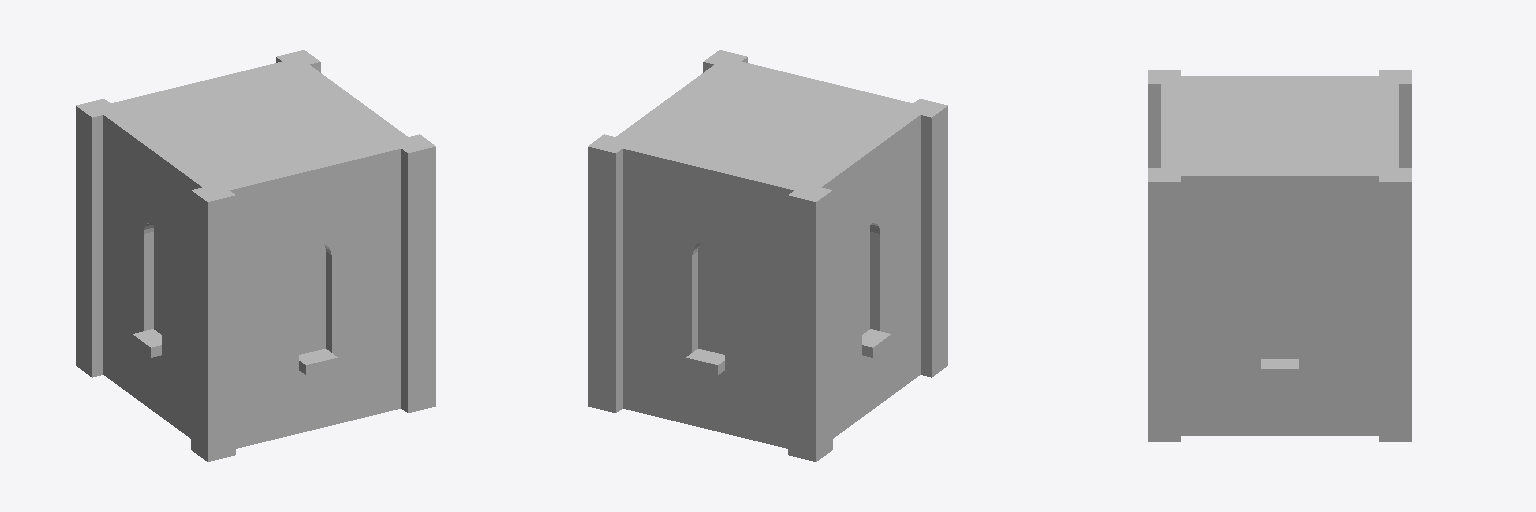
File: towersquarewindow.obj
The picture shows the model from 3 angles: view 1: azimuth 30°, elevation 25°; view 2: azimuth 150°, elevation 25°; view 3: azimuth 270°, elevation 25°; orthographic projection.
Visible parts, largest first — view 1: towerSquareMidWindows; view 2: towerSquareMidWindows; view 3: towerSquareMidWindows.
Part boxes in pixels (bbox=[...]): towerSquareMidWindows: bbox=[76, 50, 435, 461]; towerSquareMidWindows: bbox=[588, 50, 947, 461]; towerSquareMidWindows: bbox=[1148, 70, 1411, 441].
Bounding box in the file's own units: 9.3 × 10.1 × 9.3.